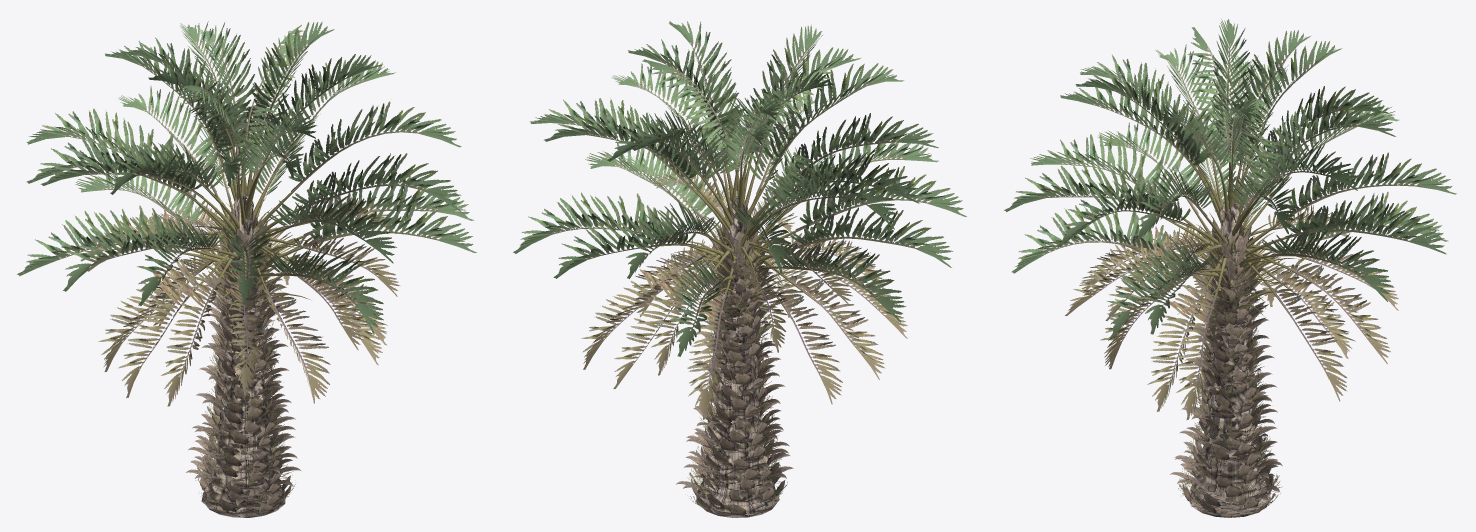
Rendered from tree.glb.
The picture shows the model from 3 angles, left to right: view 1: azimuth 30°, elevation 25°; view 2: azimuth 150°, elevation 25°; view 3: azimuth 270°, elevation 25°; orthographic projection. The views are drawn at different scales.
Parts seen in each view (by area): view 1: _1_HP_Palm3_Leaf_0, _1_HP_Palm3_Leaf_2_0, _1_HP_Palm3_Trunk_0; view 2: _1_HP_Palm3_Leaf_0, _1_HP_Palm3_Leaf_2_0, _1_HP_Palm3_Trunk_0; view 3: _1_HP_Palm3_Leaf_0, _1_HP_Palm3_Leaf_2_0, _1_HP_Palm3_Trunk_0.
Boxes of the visible parts, x1=… form: _1_HP_Palm3_Leaf_0: x1=17, y1=21, x2=476, y2=406; _1_HP_Palm3_Leaf_2_0: x1=143, y1=106, x2=353, y2=514; _1_HP_Palm3_Trunk_0: x1=201, y1=193, x2=285, y2=517; _1_HP_Palm3_Leaf_0: x1=513, y1=21, x2=966, y2=419; _1_HP_Palm3_Leaf_2_0: x1=627, y1=116, x2=846, y2=514; _1_HP_Palm3_Trunk_0: x1=696, y1=198, x2=779, y2=517; _1_HP_Palm3_Leaf_0: x1=1004, y1=19, x2=1456, y2=420; _1_HP_Palm3_Leaf_2_0: x1=1120, y1=113, x2=1336, y2=512; _1_HP_Palm3_Trunk_0: x1=1189, y1=201, x2=1270, y2=517.
Size of the model in its own units: 9.97 by 10.9 by 10.21.
Materials: 3 (3 with a texture image).
